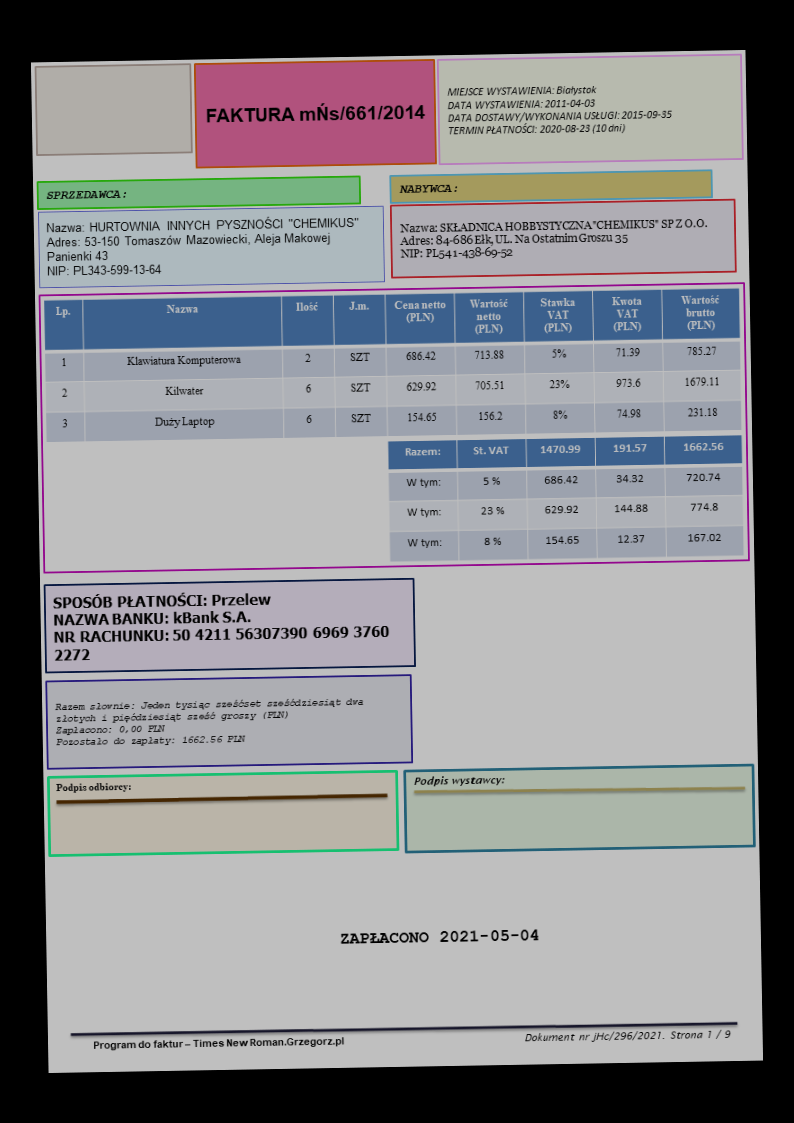Table: (43, 287, 742, 444), (386, 433, 745, 563)
TextBox: (50, 587, 391, 664), (44, 213, 362, 279), (53, 694, 367, 749), (397, 214, 710, 262), (445, 81, 674, 137), (204, 100, 427, 125), (91, 1035, 346, 1053), (339, 926, 541, 947), (522, 1027, 732, 1045), (412, 773, 506, 789), (54, 779, 131, 795), (45, 188, 128, 202), (397, 182, 459, 196)
